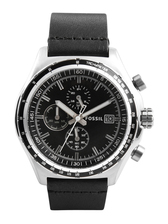watch: (17, 10, 154, 216)
